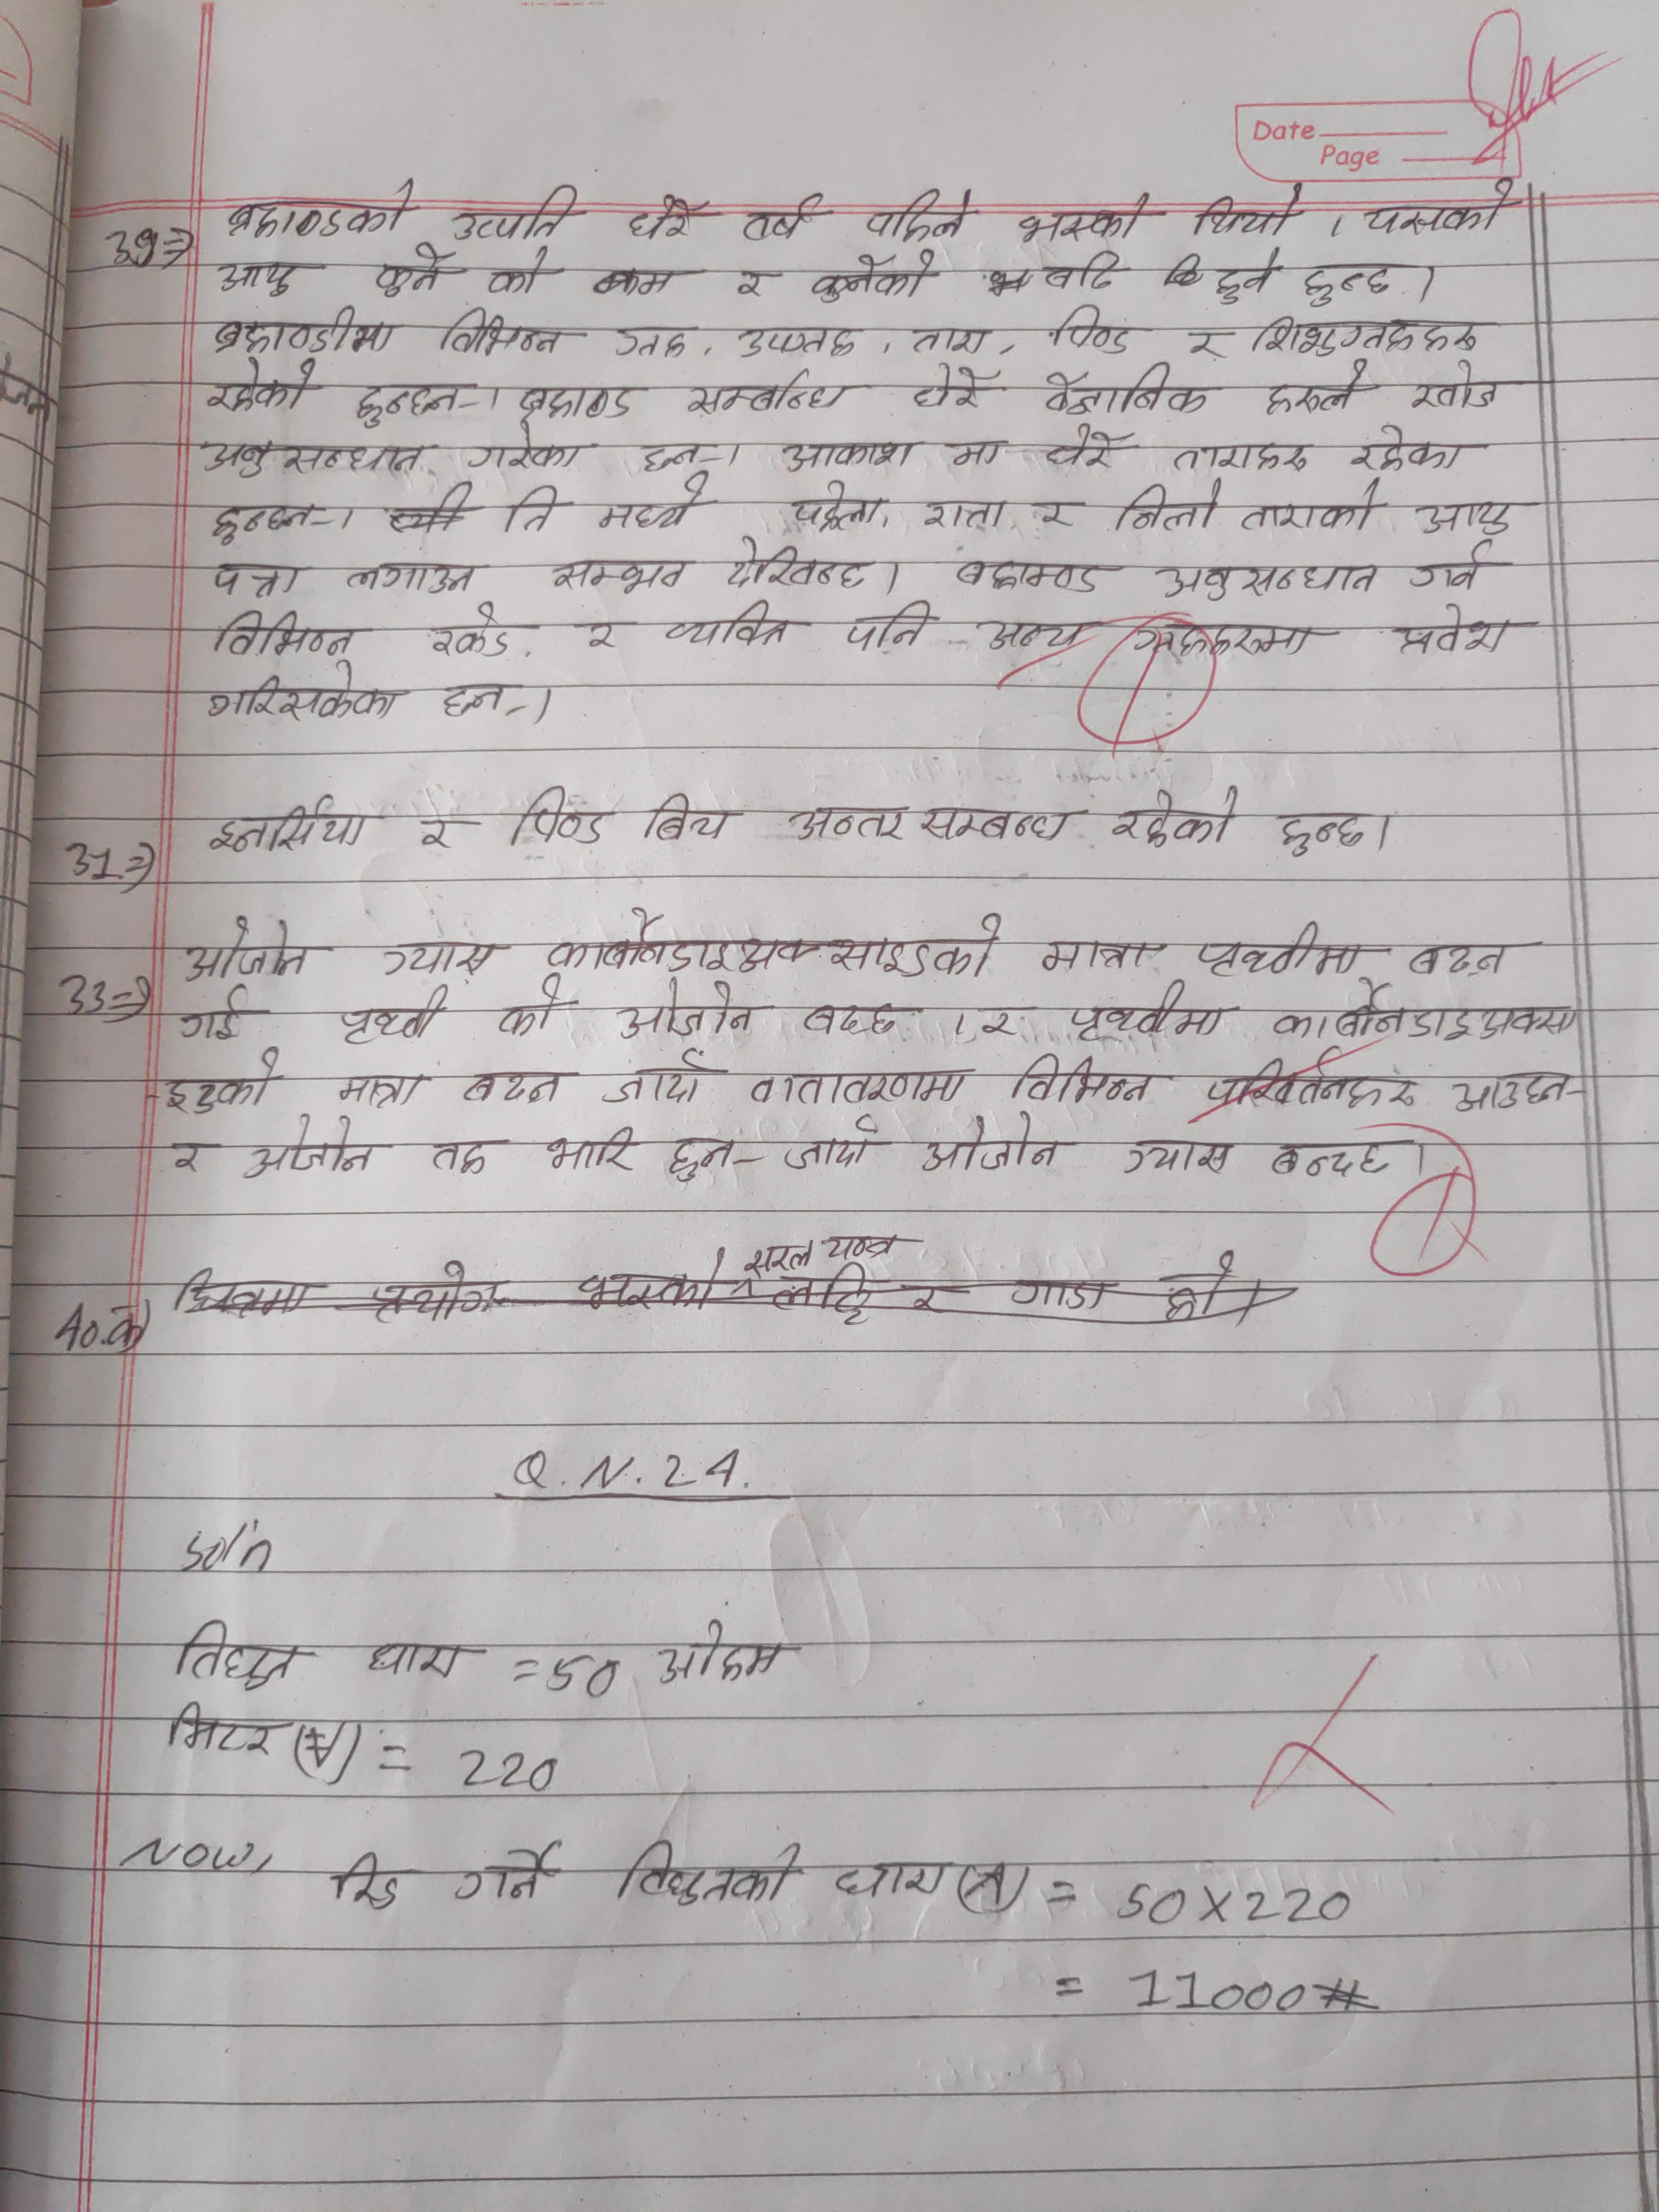text: (544, 906, 1002, 975), (1265, 984, 1582, 1043), (1197, 1057, 1424, 1118), (617, 1838, 803, 1911), (1251, 303, 1486, 355), (223, 179, 416, 240), (1147, 557, 1380, 606), (615, 970, 762, 1047), (192, 434, 429, 481), (204, 671, 404, 725), (1188, 918, 1364, 979), (1068, 981, 1232, 1045), (1363, 172, 1521, 239), (209, 301, 397, 357), (206, 791, 373, 853), (1039, 359, 1213, 416), (176, 913, 317, 982), (676, 368, 857, 421), (1009, 1047, 1159, 1111), (744, 1068, 974, 1109), (920, 1109, 1065, 1176), (246, 1116, 383, 1184), (1107, 784, 1248, 850), (176, 1618, 300, 1693), (657, 1618, 791, 1686), (1133, 624, 1331, 667), (721, 535, 871, 592), (162, 1050, 286, 1118), (450, 181, 582, 244), (1385, 603, 1525, 662), (1237, 482, 1384, 538), (211, 610, 359, 664), (432, 303, 568, 361), (167, 1700, 282, 1768), (333, 979, 450, 1045), (657, 596, 795, 651), (1183, 179, 1309, 240), (915, 801, 1077, 848), (204, 355, 324, 418), (451, 1844, 568, 1909), (598, 1042, 708, 1109), (505, 780, 612, 850), (1011, 192, 1152, 244), (809, 253, 941, 307), (950, 557, 1105, 603), (469, 413, 587, 472), (1258, 357, 1370, 420), (354, 376, 474, 434), (1345, 420, 1476, 472), (342, 552, 484, 599), (1114, 474, 1227, 533), (420, 597, 523, 660), (830, 1855, 953, 1905), (1044, 300, 1145, 361), (779, 1109, 880, 1170), (864, 186, 974, 242), (1267, 1136, 1392, 1184), (596, 479, 709, 533), (638, 789, 737, 850), (784, 799, 908, 848), (788, 474, 890, 531), (545, 556, 692, 596), (1453, 1066, 1572, 1115), (538, 1125, 643, 1179), (1412, 355, 1504, 416), (1276, 805, 1370, 864), (206, 498, 319, 547), (1117, 1136, 1239, 1181), (324, 1848, 410, 1912), (458, 1064, 575, 1111), (775, 432, 918, 470), (964, 617, 1089, 660), (1168, 441, 1314, 477), (380, 939, 512, 979), (843, 599, 938, 655), (1406, 495, 1521, 540), (908, 361, 1000, 416), (1298, 258, 1399, 308), (734, 322, 861, 362), (512, 381, 638, 421), (737, 190, 821, 249), (800, 993, 904, 1040), (1033, 937, 1150, 979), (362, 1635, 469, 1681), (664, 1129, 742, 1190), (1213, 244, 1281, 312), (207, 557, 312, 601), (178, 982, 249, 1045), (213, 254, 310, 300), (497, 974, 561, 1042), (369, 242, 448, 298), (481, 244, 554, 303), (1412, 542, 1495, 592), (436, 678, 528, 723), (1405, 942, 1518, 979), (1042, 421, 1126, 470), (918, 489, 1009, 533), (1040, 247, 1124, 294), (333, 1071, 432, 1109), (624, 193, 699, 244), (612, 317, 692, 362), (904, 319, 995, 355), (423, 1137, 497, 1181), (500, 484, 565, 533), (741, 1240, 821, 1278), (819, 1230, 904, 1264), (633, 437, 706, 472), (413, 812, 460, 860), (166, 1129, 207, 1181), (638, 258, 688, 300), (1032, 493, 1082, 531), (575, 613, 626, 651), (1180, 327, 1227, 368), (979, 1000, 1018, 1049), (728, 266, 775, 303), (953, 437, 1000, 472)
